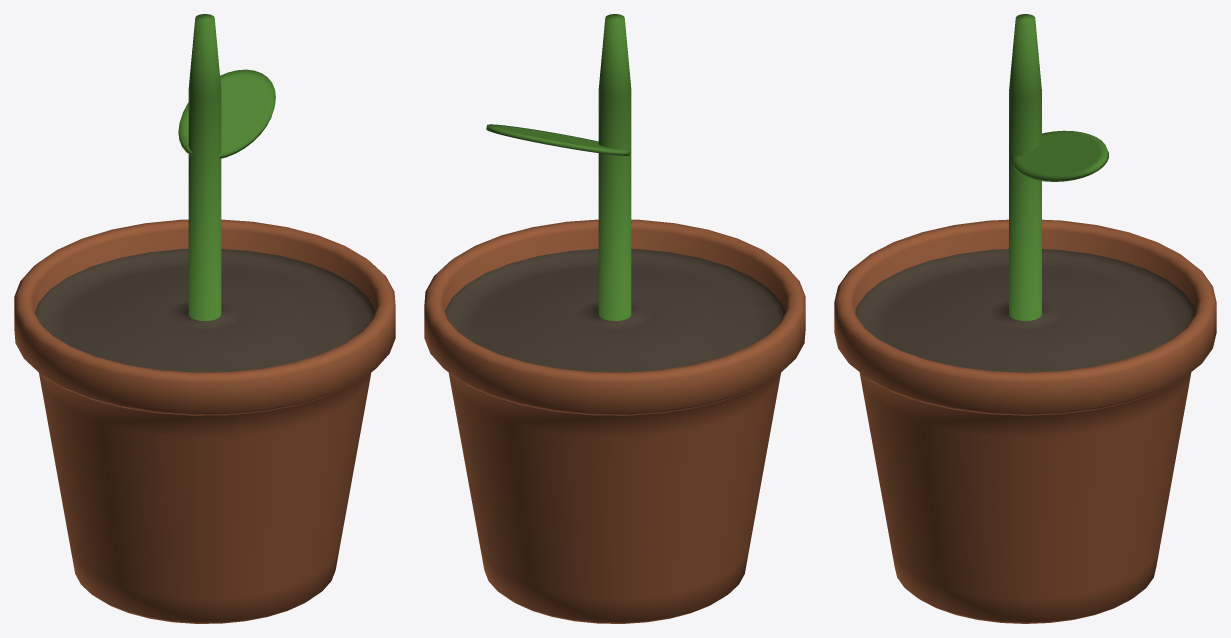
File: plantpot.glb
The picture shows the model from 3 angles, left to right: view 1: azimuth 30°, elevation 25°; view 2: azimuth 150°, elevation 25°; view 3: azimuth 270°, elevation 25°; orthographic projection.
Parts seen in each view (by area): view 1: Circle.001; view 2: Circle.001; view 3: Circle.001.
Boxes of the visible parts, left/top/right/bottom form: Circle.001: left=14, top=14, right=395, bottom=623; Circle.001: left=424, top=14, right=805, bottom=623; Circle.001: left=834, top=14, right=1216, bottom=623.
Size of the model in its own units: 0.7345 by 1.17 by 0.7345.
